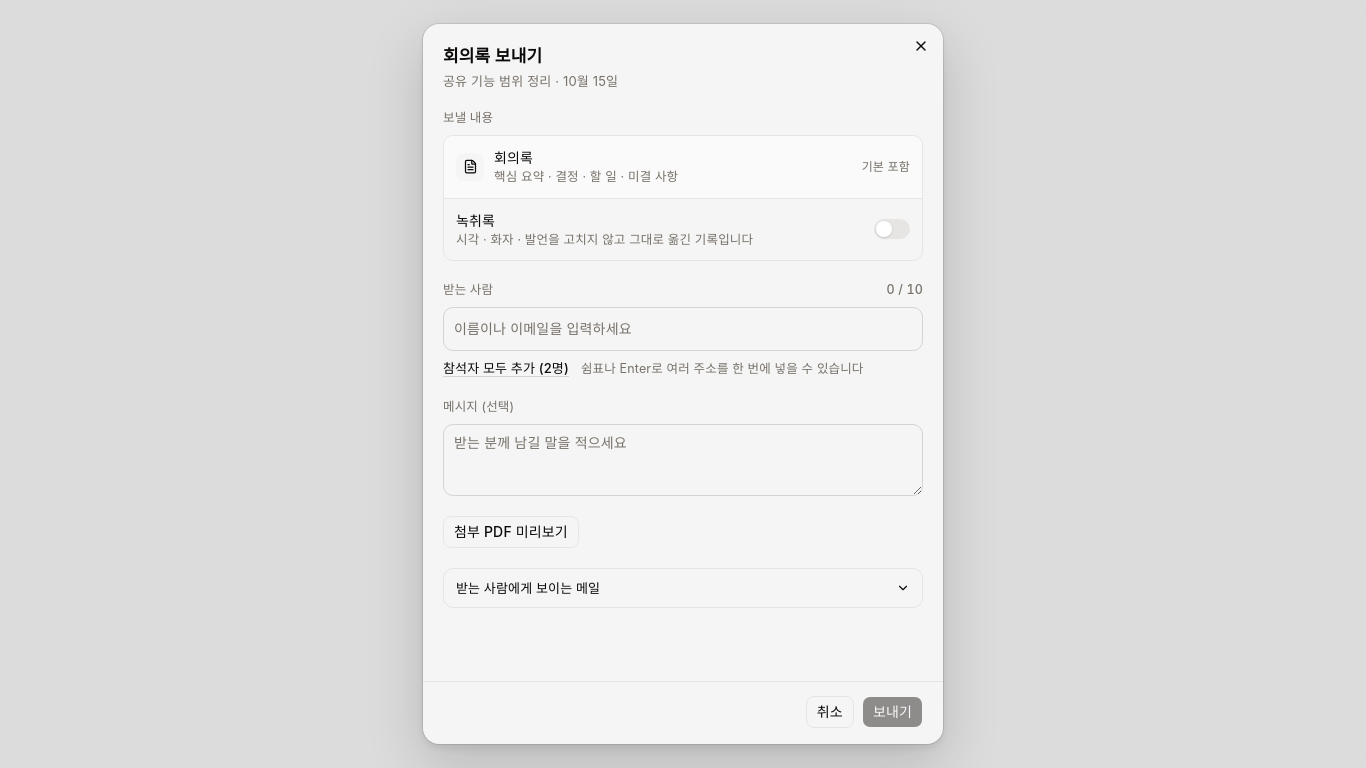
Test: ShareMailDialog › 받는 사람이 없거나 틀린 주소가 있으면 보내기가 막힌다
expect the button "보내기" is disabled: met, box [862,696,923,728]
In the dropdown: [683, 329] box [452,315,914,343], type "a@x.com, oops,"
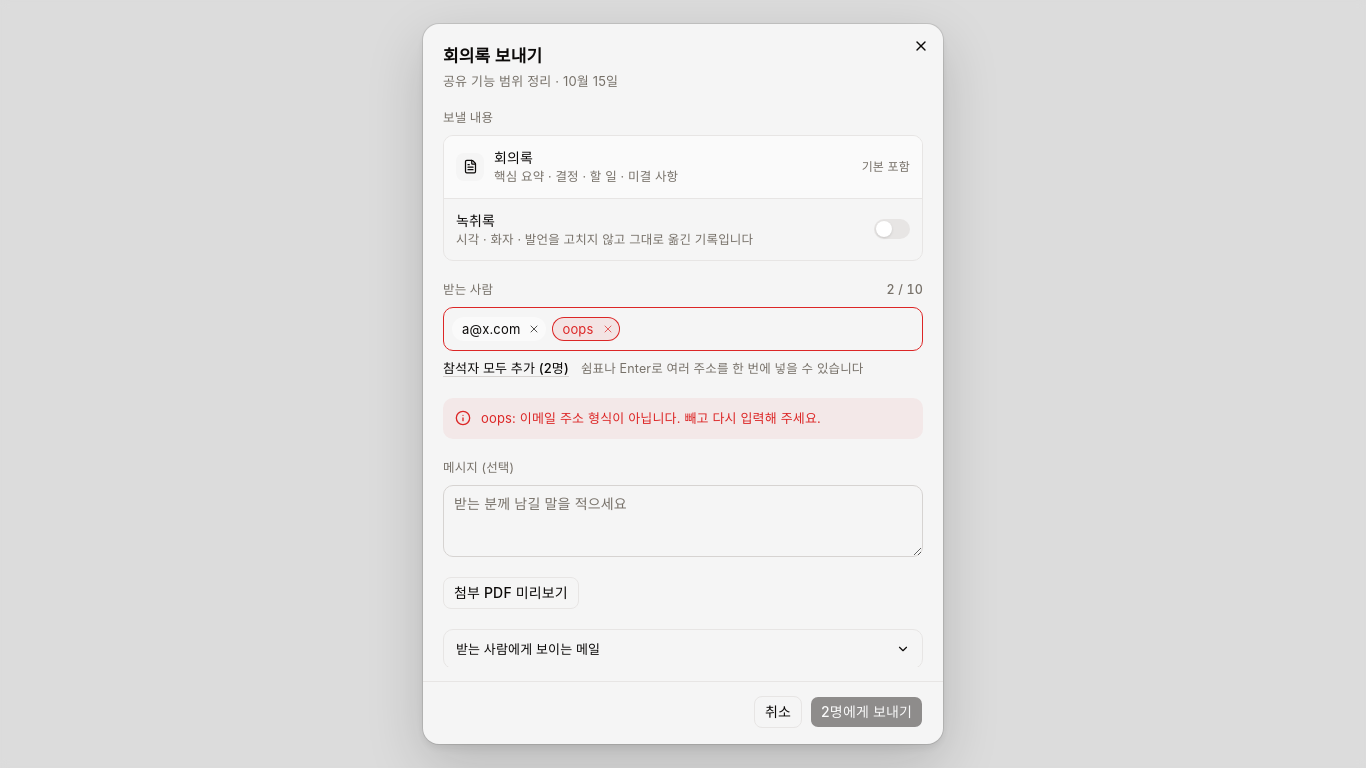
expect the button "2명에게 보내기" is disabled: met, box [810,696,923,728]
expect the message shows "oops": met, box [481,410,821,426]
Click the button named "oops 빼기": [608, 329] box [598,319,618,339]
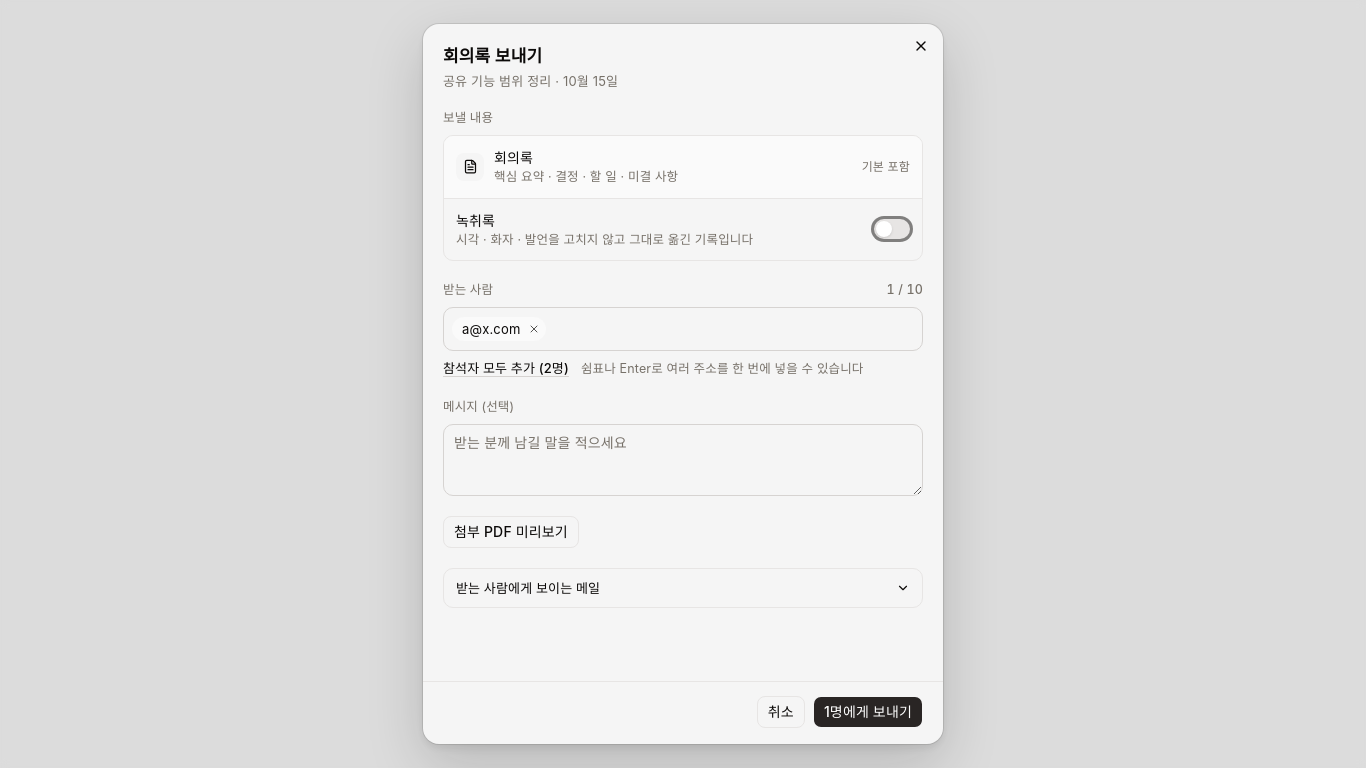
expect the button "1명에게 보내기" is enabled: met, box [813,696,923,728]
